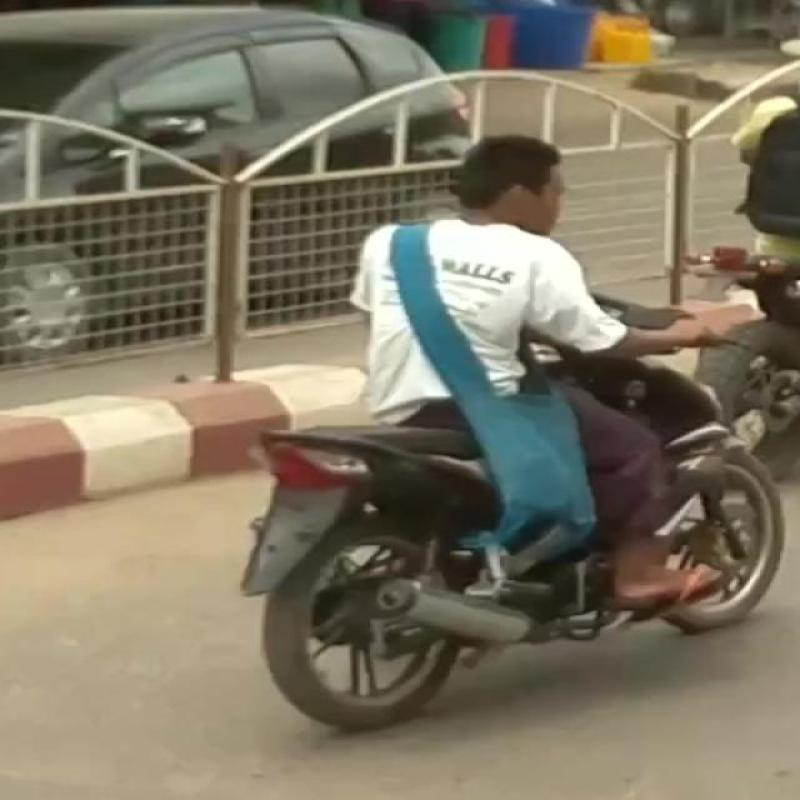nohelmet: (436, 110, 612, 270)
